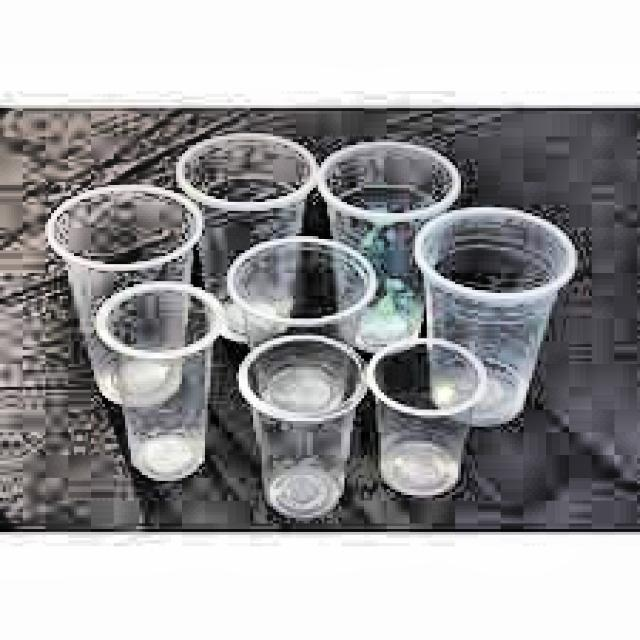plastic cup: (44, 191, 205, 397), (425, 211, 580, 416), (318, 142, 464, 345), (178, 126, 312, 329), (102, 284, 222, 482), (238, 340, 356, 514), (366, 334, 484, 497)
